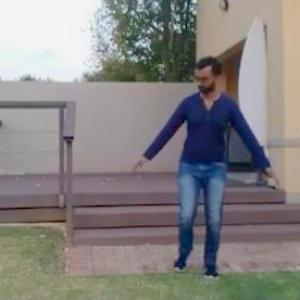land: (133, 44, 282, 280)
